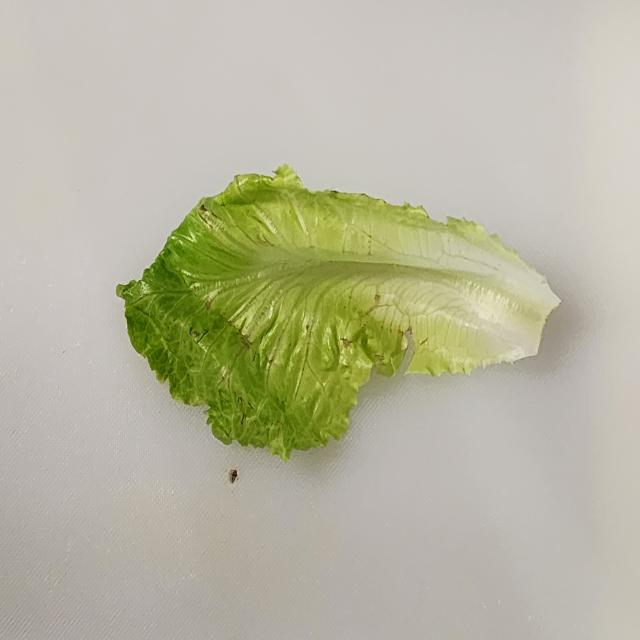lettuce: (115, 162, 562, 462)
